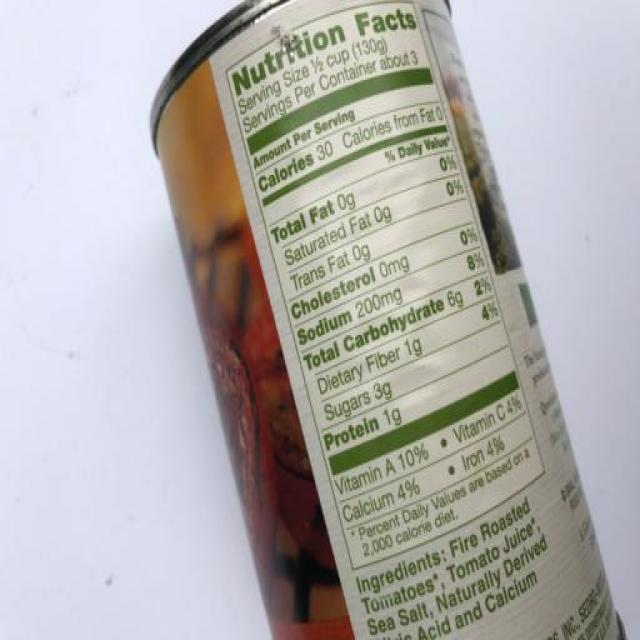metel: (133, 1, 640, 640)
